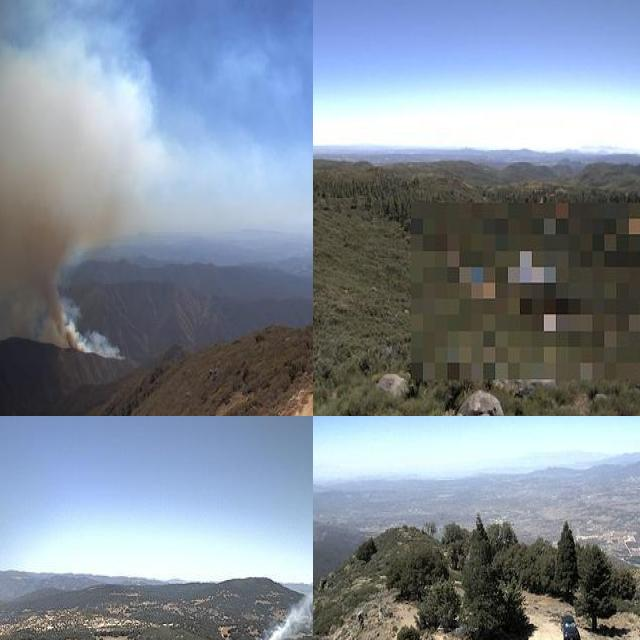smoke: (0, 25, 129, 362), (246, 589, 313, 640)
